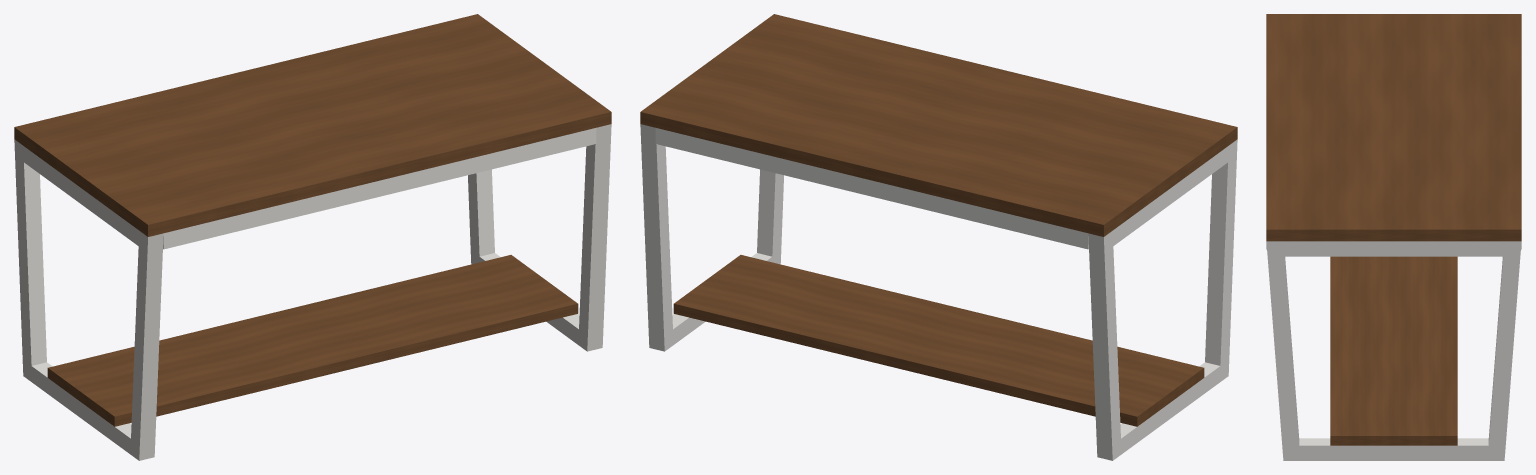
File: mesa-living-nord-estante-nogal-blanco-4cm.glb
3 views of the same model, side by side, from view 1: azimuth 30°, elevation 25°; view 2: azimuth 150°, elevation 25°; view 3: azimuth 270°, elevation 25° (orthographic). The views are drawn at different scales.
Visible parts, largest first — view 1: Tapa de madera maciza 120 x 60 x 3 cm, Estante inferior de madera de 120 cm (proporción aproximada), Patas inclinadas con cortes a inglete, Larguero longitudinal superior de hierro 4 x 4 mm, Travesaño inferior del trapecio, perfil 4 cm (×2), Travesaño superior del trapecio, perfil 4 cm; view 2: Tapa de madera maciza 120 x 60 x 3 cm, Estante inferior de madera de 120 cm (proporción aproximada), Patas inclinadas con cortes a inglete, Larguero longitudinal superior de hierro 4 x 4 mm, Travesaño inferior del trapecio, perfil 4 cm (×2), Travesaño superior del trapecio, perfil 4 cm; view 3: Tapa de madera maciza 120 x 60 x 3 cm, Estante inferior de madera de 120 cm (proporción aproximada), Patas inclinadas con cortes a inglete, Travesaño superior del trapecio, perfil 4 cm, Travesaño inferior del trapecio, perfil 4 cm.
Part boxes in pixels (bbox=[...]): Tapa de madera maciza 120 x 60 x 3 cm: bbox=[14, 14, 611, 236]; Estante inferior de madera de 120 cm (proporción aproximada): bbox=[47, 255, 578, 426]; Patas inclinadas con cortes a inglete: bbox=[14, 124, 611, 460]; Larguero longitudinal superior de hierro 4 x 4 mm: bbox=[163, 128, 596, 249]; Travesaño inferior del trapecio, perfil 4 cm (×2): bbox=[31, 253, 582, 453]; Travesaño superior del trapecio, perfil 4 cm: bbox=[23, 146, 142, 246]; Tapa de madera maciza 120 x 60 x 3 cm: bbox=[640, 14, 1237, 236]; Estante inferior de madera de 120 cm (proporción aproximada): bbox=[673, 255, 1204, 426]; Patas inclinadas con cortes a inglete: bbox=[640, 124, 1237, 460]; Larguero longitudinal superior de hierro 4 x 4 mm: bbox=[655, 128, 1088, 249]; Travesaño inferior del trapecio, perfil 4 cm (×2): bbox=[669, 253, 1224, 453]; Travesaño superior del trapecio, perfil 4 cm: bbox=[1108, 146, 1228, 249]; Tapa de madera maciza 120 x 60 x 3 cm: bbox=[1266, 14, 1521, 241]; Estante inferior de madera de 120 cm (proporción aproximada): bbox=[1330, 256, 1457, 445]; Patas inclinadas con cortes a inglete: bbox=[1266, 241, 1521, 460]; Travesaño superior del trapecio, perfil 4 cm: bbox=[1275, 241, 1512, 256]; Travesaño inferior del trapecio, perfil 4 cm: bbox=[1292, 438, 1495, 460].
Bounding box in the file's own units: 1.2 × 0.6 × 0.6.
Materials: 2 (1 with a texture image).
